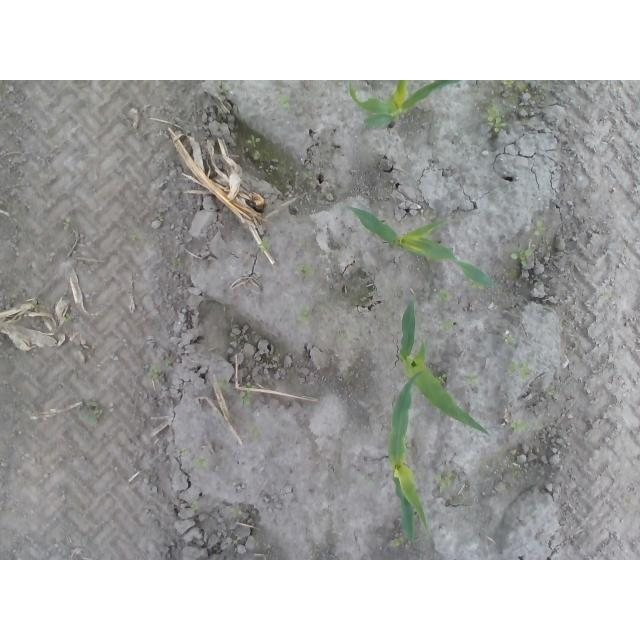Maize: (388, 297, 492, 543), (342, 203, 504, 287), (348, 81, 464, 128)
Weeds: (485, 106, 511, 135), (77, 400, 104, 425), (434, 471, 458, 497), (509, 243, 535, 267), (507, 359, 534, 382), (238, 383, 255, 409), (504, 81, 531, 96), (296, 306, 313, 326), (510, 420, 530, 434), (248, 421, 260, 444), (296, 266, 316, 279), (532, 220, 547, 237), (257, 236, 272, 253), (464, 374, 482, 388), (276, 94, 293, 108), (433, 289, 451, 301), (193, 455, 208, 469), (220, 81, 233, 97), (361, 475, 375, 489), (434, 372, 447, 386), (31, 300, 45, 313), (148, 364, 161, 378), (439, 319, 453, 332), (504, 332, 517, 346), (248, 135, 261, 148), (151, 210, 165, 222), (174, 256, 185, 270), (228, 507, 242, 518), (218, 380, 231, 391), (127, 233, 140, 243), (189, 502, 199, 515), (63, 315, 77, 324), (393, 538, 408, 546), (177, 448, 190, 457), (303, 171, 314, 181), (62, 217, 70, 230), (230, 538, 240, 547), (549, 386, 558, 396)
